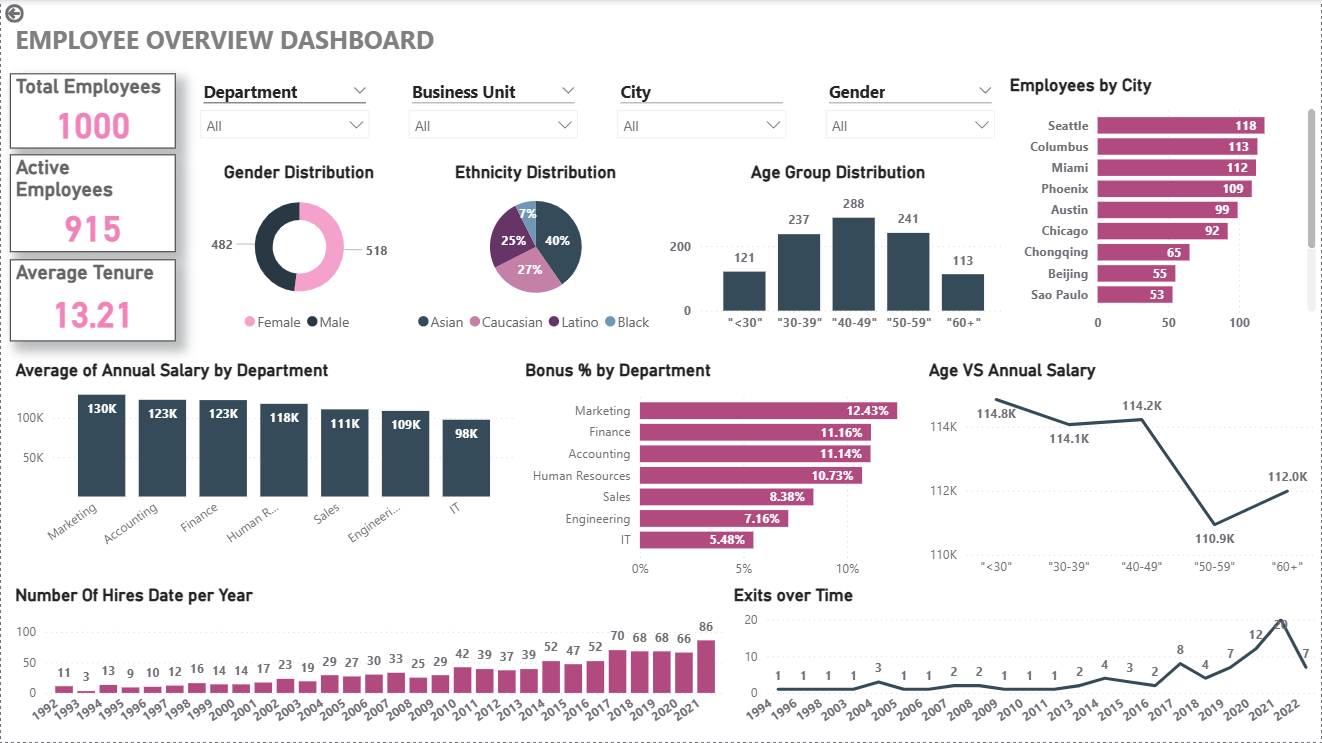

What the dashboard file says about the page in this screenshot:
{"tool":"powerbi","page":{"name":"Page 1","canvas":[1280,720],"ordinal":0},"visuals":[{"type":"textbox","box":[8.3,16.6,470.4,53],"z":0},{"type":"slicer","fields":{"Values":["Data.Department"]},"box":[183.9,72.9,183.9,69.6],"z":1000},{"type":"slicer","fields":{"Values":["Data.Business Unit"]},"box":[386,72.9,183.9,69.6],"z":2000},{"type":"slicer","fields":{"Values":["Data.City"]},"box":[588.1,72.9,183.9,69.6],"z":3000},{"type":"slicer","fields":{"Values":["Data.Gender"]},"box":[790.1,72.9,183.9,71.2],"z":4000},{"type":"donutChart","title":"Gender Distribution","fields":{"Category":["Data.Gender"],"Y":["CountNonNull(Data.Gender)"]},"box":[190.5,157.4,197.1,173.9],"z":5000},{"type":"pieChart","title":"Ethnicity Distribution","fields":{"Category":["Data.Ethnicity"],"Y":["CountNonNull(Data.Ethnicity)"]},"box":[394.2,157.4,248.5,173.9],"z":6000},{"type":"columnChart","title":"Age Group Distribution","fields":{"Category":["Data.Age Group"],"Y":["CountNonNull(Data.Age Group)"]},"box":[642.7,157.4,337.9,173.9],"z":7000},{"type":"columnChart","fields":{"Category":["Data.Department"],"Y":["Avg(Data.Annual Salary)"]},"box":[8.3,349.5,495.3,192.2],"z":9000},{"type":"barChart","title":"Bonus % by Department","fields":{"Category":["Data.Department"],"Y":["Avg(Data.Bonus %)"]},"box":[503.6,349.5,432.3,220.3],"z":10000},{"type":"columnChart","title":"Number Of Hires Date per Year","fields":{"Category":["Data.Hire Date.Variation.Date Hierarchy.Year","Data.Hire Date.Variation.Date Hierarchy.Quarter","Data.Hire Date.Variation.Date Hierarchy.Month","Data.Hire Date.Variation.Date Hierarchy.Day"],"Y":["CountNonNull(Data.Hire Date)"]},"box":[8.3,568.2,697.4,152.4],"z":11000},{"type":"lineChart","title":"Exits over Time ","fields":{"Category":["Data.Exit Date.Variation.Date Hierarchy.Year","Data.Exit Date.Variation.Date Hierarchy.Quarter","Data.Exit Date.Variation.Date Hierarchy.Month","Data.Exit Date.Variation.Date Hierarchy.Day"],"Y":["CountNonNull(Data.Exit Date)"]},"box":[705.7,568.2,574.8,152.4],"z":12000},{"type":"lineChart","title":"Age VS Annual Salary","fields":{"Category":["Data.Age Group"],"Y":["Avg(Data.Annual Salary)"]},"box":[894.5,349.5,386,218.7],"z":13000},{"type":"card","title":"Total Employees","fields":{"Values":["Data.Total TBL_Employees"]},"box":[8.3,71.2,160.7,72.9],"z":14000},{"type":"card","title":"Active Employees","fields":{"Values":["Data.Active TBL_Employees"]},"box":[8.3,150.3,160.7,94.4],"z":15000},{"type":"card","title":"Average Tenure","fields":{"Values":["Data.Average Tenure(Years)"]},"box":[8.3,252,160.7,79.5],"z":16000},{"type":"actionButton","box":[0,0,88.8,26.2],"z":18000},{"type":"barChart","title":"Employees by City","fields":{"Category":["Data.City"],"Y":["CountNonNull(Data.City)"]},"box":[973.3,73.3,306.7,258.3],"z":18001}]}

Visuals, with their boxes in screenshot pixels (x1, y1, x2, y2), scaled from the page's 1280x720 canvas onto the 1322x743 screenshot:
textbox: <box>9,17,494,72</box>
slicer - Data.Department: <box>190,75,380,147</box>
slicer - Data.Business Unit: <box>399,75,589,147</box>
slicer - Data.City: <box>607,75,797,147</box>
slicer - Data.Gender: <box>816,75,1006,149</box>
"Gender Distribution" donutChart: <box>197,162,400,342</box>
"Ethnicity Distribution" pieChart: <box>407,162,664,342</box>
"Age Group Distribution" columnChart: <box>664,162,1013,342</box>
columnChart - Data.Department x Avg(Data.Annual Salary): <box>9,361,520,559</box>
"Bonus % by Department" barChart: <box>520,361,967,588</box>
"Number Of Hires Date per Year" columnChart: <box>9,586,729,742</box>
"Exits over Time " lineChart: <box>729,586,1321,742</box>
"Age VS Annual Salary" lineChart: <box>924,361,1321,586</box>
"Total Employees" card: <box>9,73,175,149</box>
"Active Employees" card: <box>9,155,175,253</box>
"Average Tenure" card: <box>9,260,175,342</box>
actionButton: <box>0,0,92,27</box>
"Employees by City" barChart: <box>1005,76,1321,342</box>
